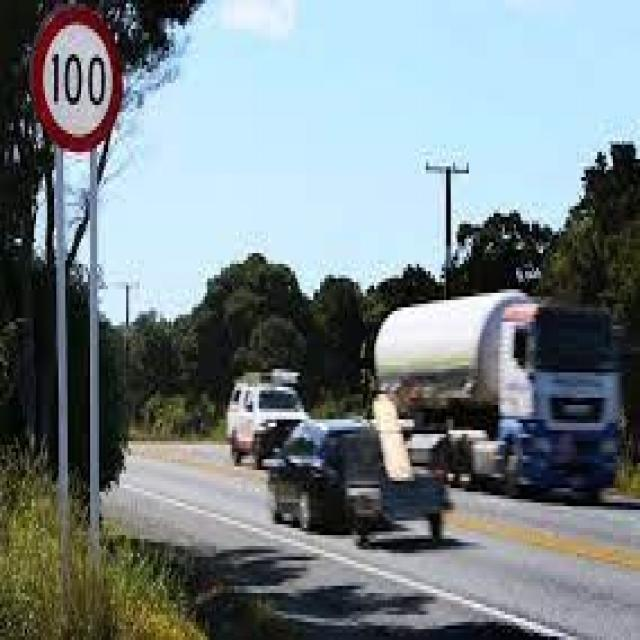speed_limit_100: (30, 7, 124, 155)
